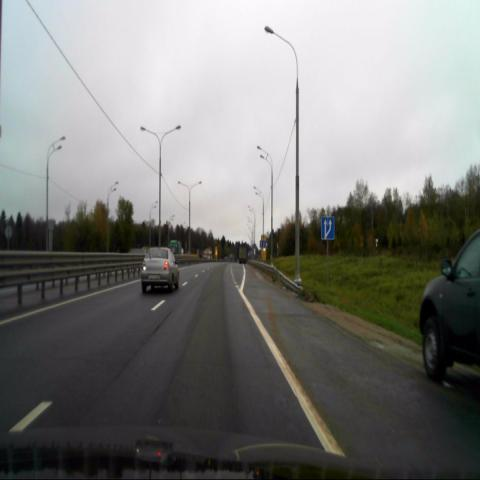5_15_3: (320, 216, 334, 239)
